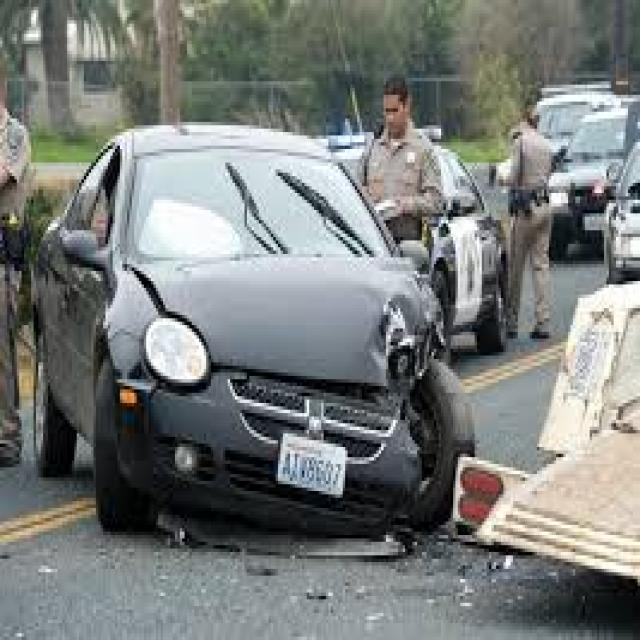accident: (26, 110, 502, 583)
